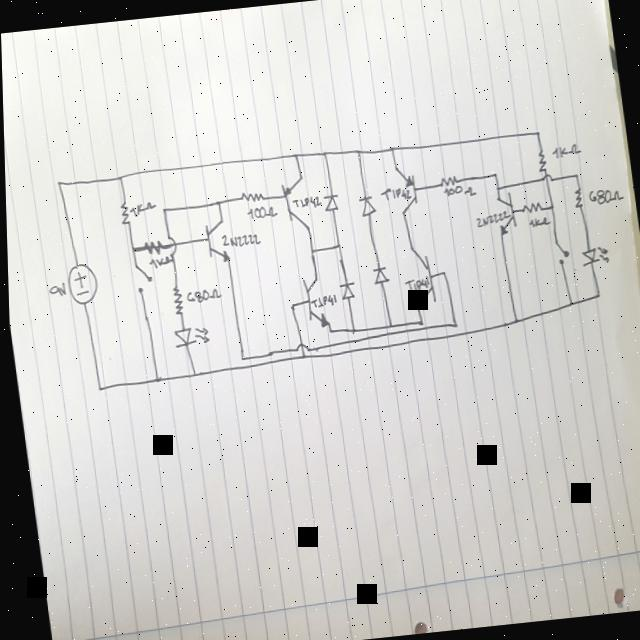crossover: (163, 232, 175, 257), (290, 341, 306, 350), (539, 172, 551, 182)
diode: (168, 322, 208, 348), (576, 242, 610, 272), (353, 193, 374, 218), (368, 264, 388, 286), (336, 280, 356, 302), (318, 191, 337, 213)
junction: (506, 312, 519, 328), (562, 296, 574, 308), (590, 290, 601, 301), (187, 368, 196, 381), (91, 382, 100, 393), (113, 171, 124, 180), (332, 239, 340, 251), (446, 318, 455, 328), (352, 146, 361, 156), (148, 372, 157, 382), (236, 350, 243, 362), (317, 148, 326, 157), (382, 321, 392, 329), (286, 300, 294, 310), (53, 178, 61, 188), (436, 268, 445, 276), (546, 200, 553, 210), (387, 142, 394, 152), (347, 324, 354, 334), (213, 196, 220, 206), (127, 242, 134, 252), (306, 246, 313, 255), (290, 150, 297, 159), (157, 204, 164, 213), (533, 128, 540, 136), (489, 170, 497, 177), (492, 183, 499, 190), (571, 170, 577, 178), (297, 352, 303, 358), (414, 318, 420, 323)
resistor: (168, 281, 183, 317), (139, 236, 164, 256), (237, 187, 264, 204), (114, 198, 130, 226), (519, 198, 542, 216), (568, 184, 583, 211), (532, 147, 546, 173), (436, 174, 457, 188)
source: (61, 258, 97, 306)
switch: (129, 260, 152, 296), (547, 235, 569, 268)
text: (584, 182, 625, 205), (217, 230, 260, 250), (470, 208, 509, 226), (376, 182, 410, 202), (182, 286, 219, 304), (306, 292, 336, 310), (440, 183, 473, 199), (289, 193, 320, 210), (399, 275, 428, 293), (41, 280, 67, 300), (125, 199, 155, 216), (550, 142, 579, 159), (243, 204, 274, 218), (146, 254, 168, 268), (525, 216, 548, 228)
transistor: (403, 243, 436, 310), (276, 174, 309, 231), (298, 271, 328, 328), (389, 162, 418, 215), (199, 215, 229, 263), (490, 190, 517, 238)
